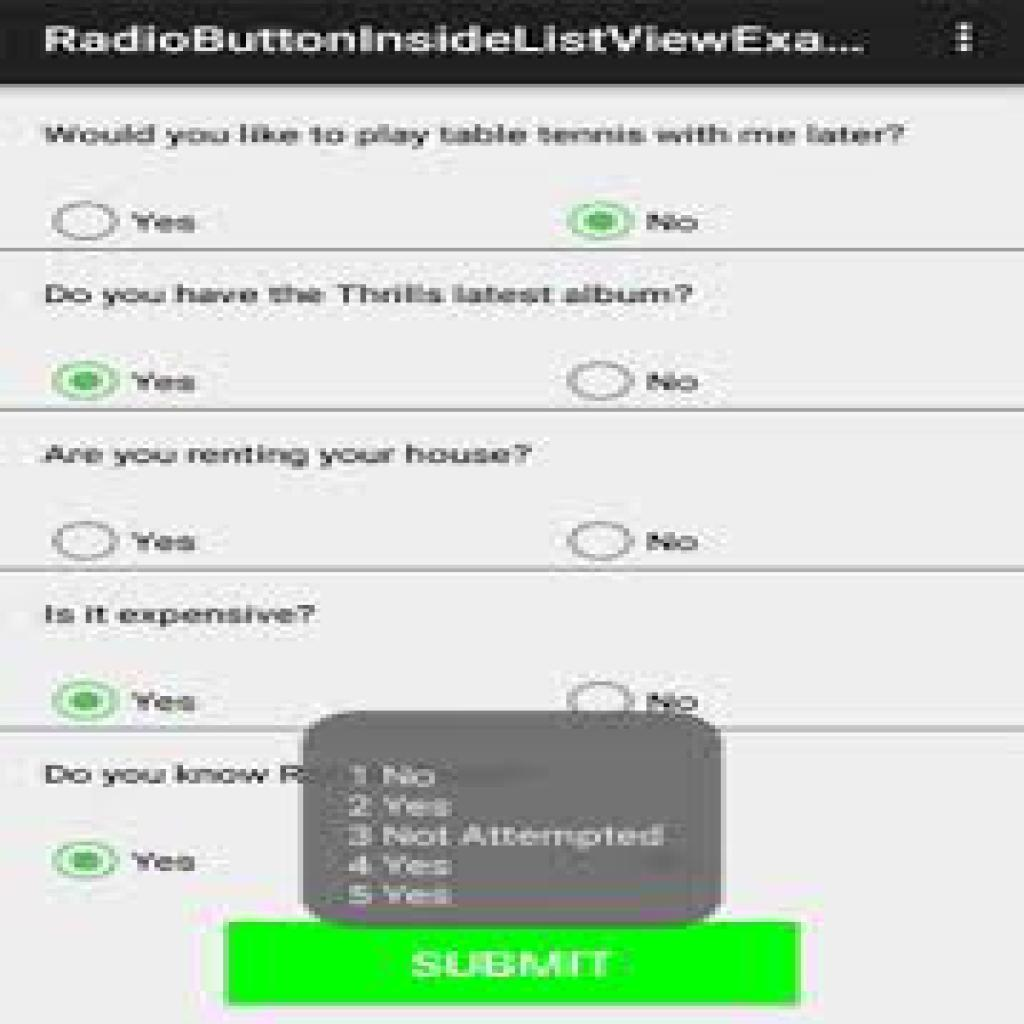button: (227, 924, 800, 1009)
icon: (954, 21, 977, 59)
radio: (55, 192, 130, 252), (561, 353, 642, 404), (52, 351, 119, 404), (564, 199, 644, 243), (52, 520, 127, 565), (51, 679, 125, 724), (52, 840, 125, 884), (567, 520, 638, 565), (568, 680, 634, 712)
